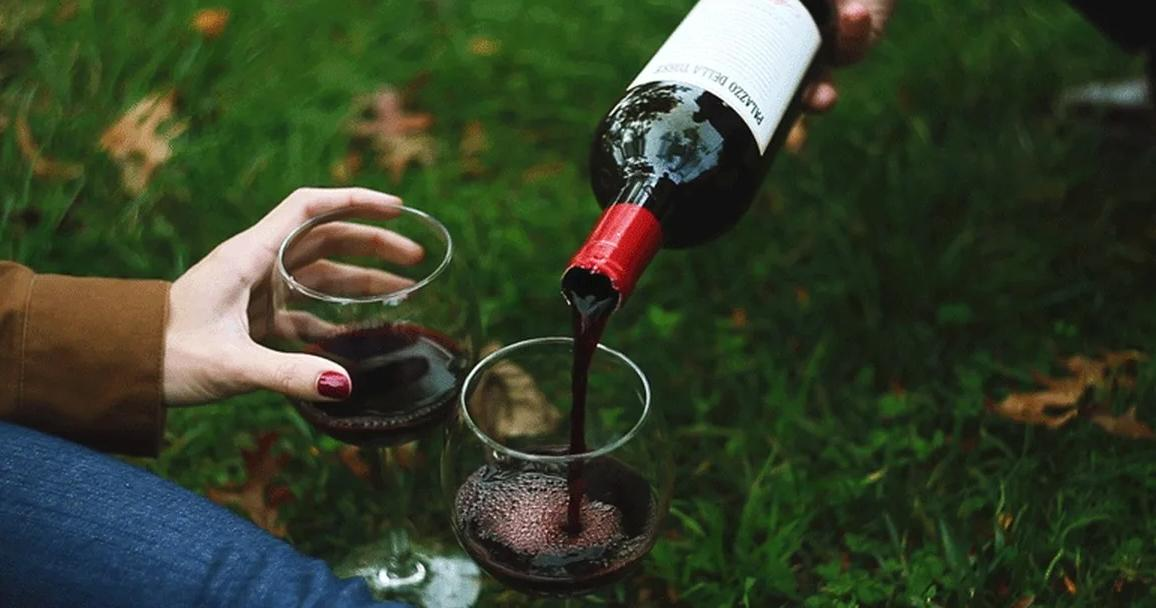wine bottle: (561, 0, 839, 319)
wine label: (626, 0, 821, 154)
